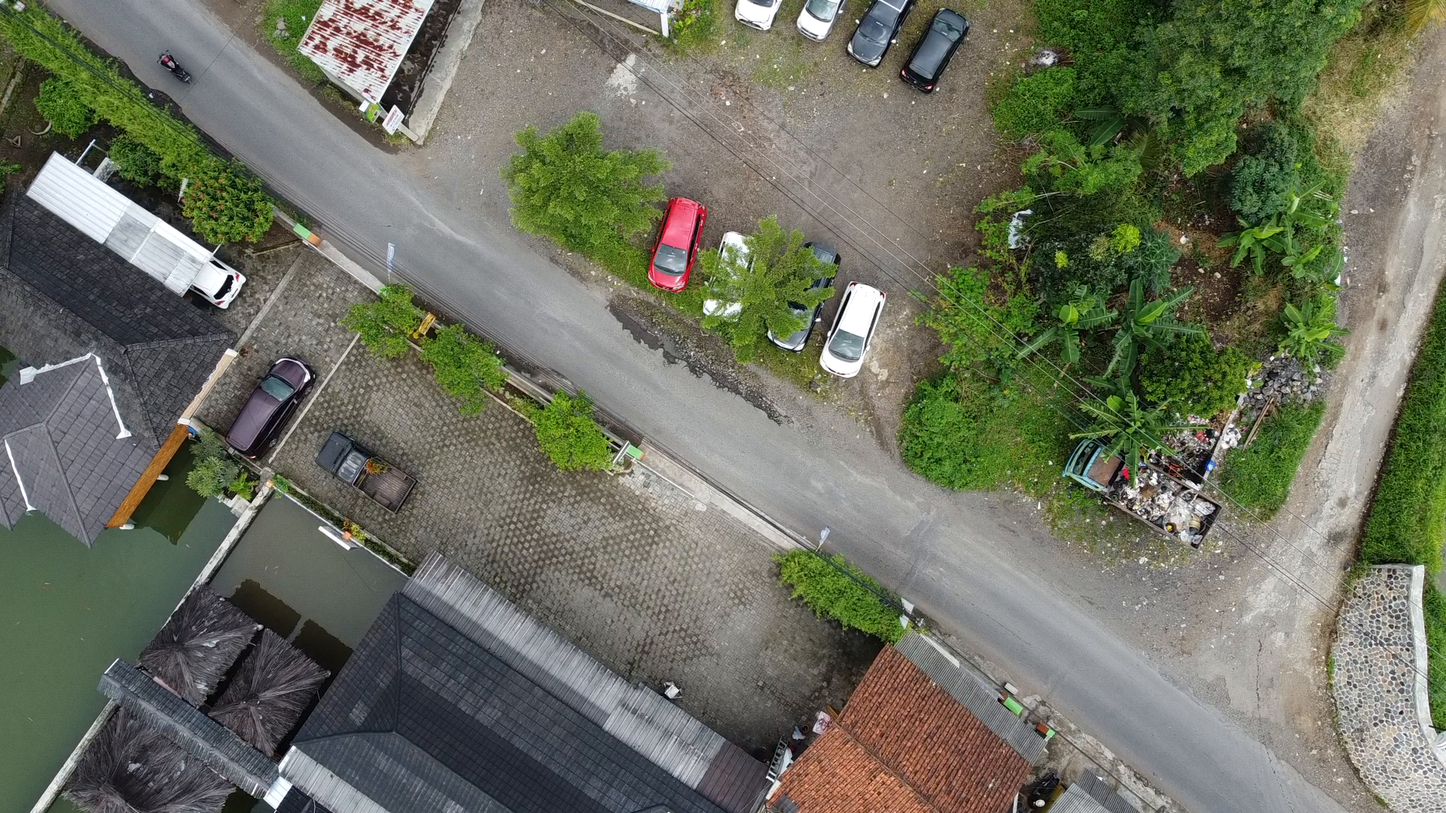mobil: (208, 346, 316, 467), (310, 425, 429, 517), (772, 235, 847, 349), (903, 1, 976, 102), (824, 269, 888, 379), (646, 193, 714, 289), (705, 226, 767, 325), (844, 3, 911, 81), (180, 250, 262, 313)
